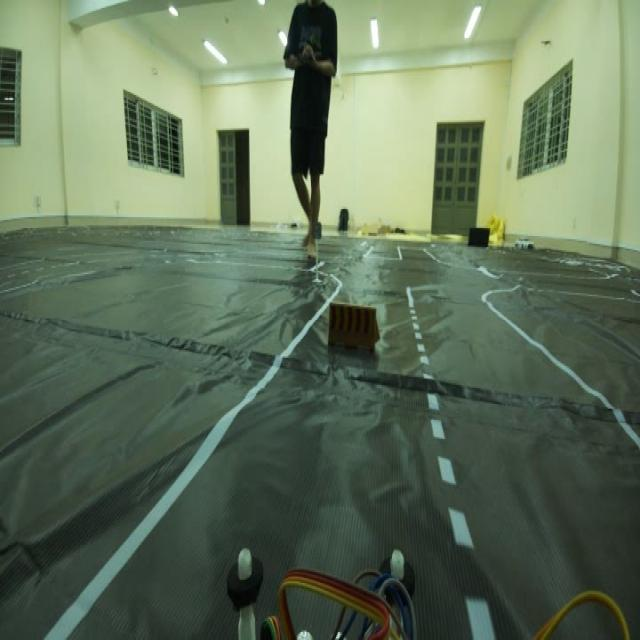roadblock: (320, 294, 382, 373)
